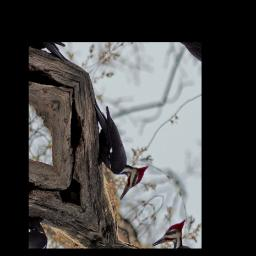Woodpecker: (67, 94, 153, 202)
